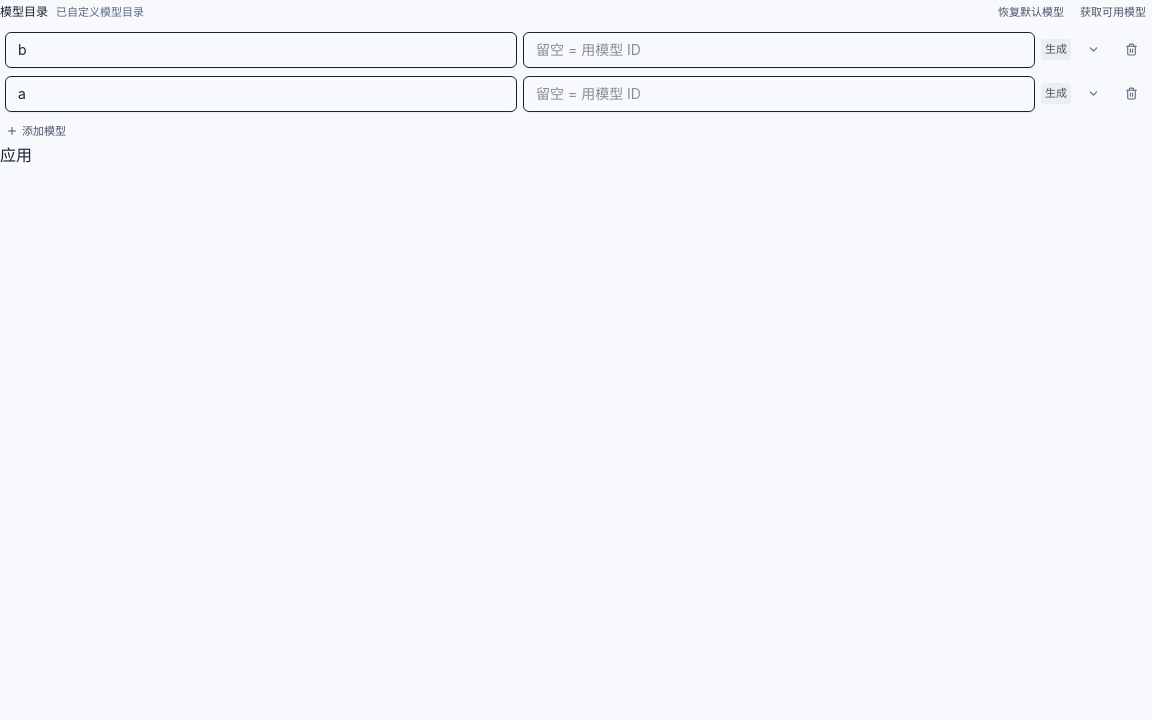
Test: ModelCatalogEditor「获取可用模型」入口（v3 §5，T8） › 采纳新模型 → 追加在**存储序末尾**（显示层倒序 → 自然置顶），显示名/容量/输入类型一并填进行
Step 1. Click the button "获取可用模型" → (1113, 12), box [1074,0,1151,24]
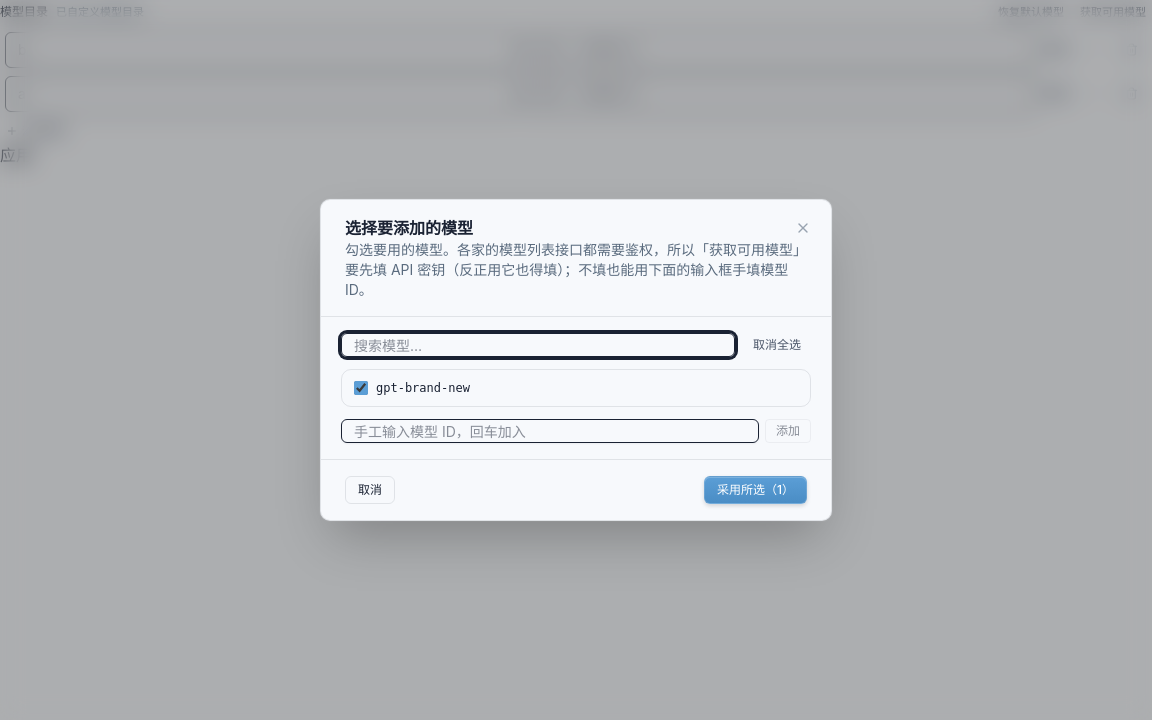
Step 2. Click the button "采用所选（1）" → (756, 490), box [704,476,807,504]
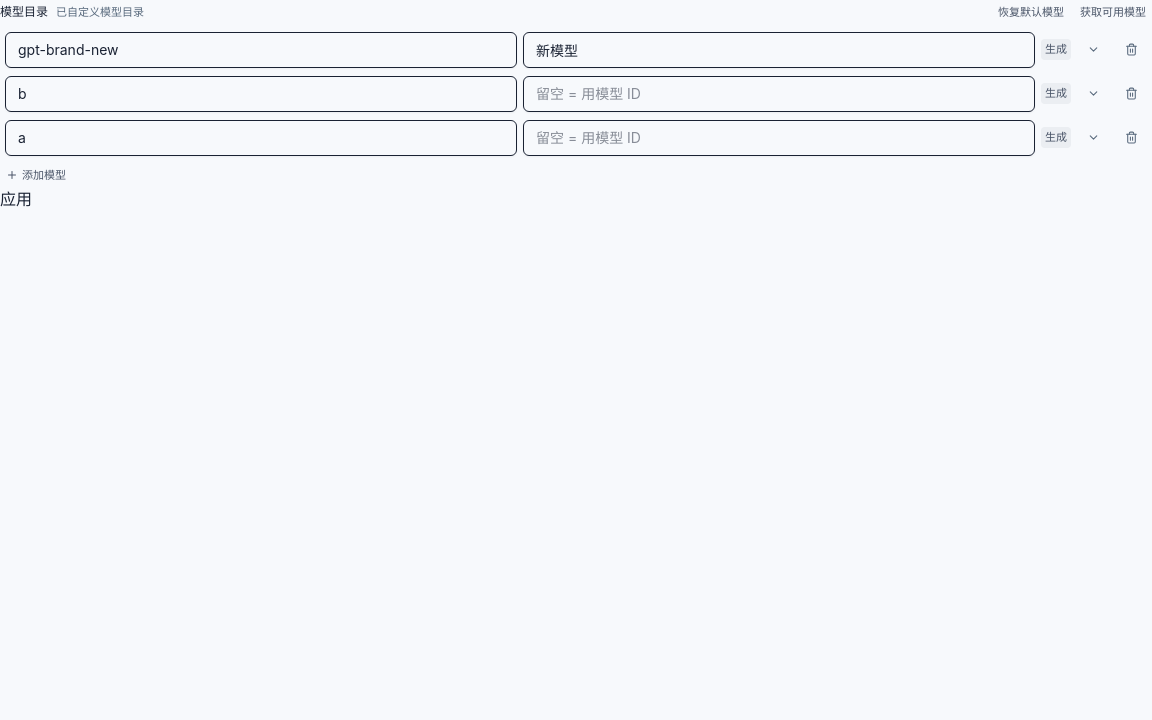
Expected: the field named "模型 ID 1" holds "gpt-brand-new", [5,32,517,68]
